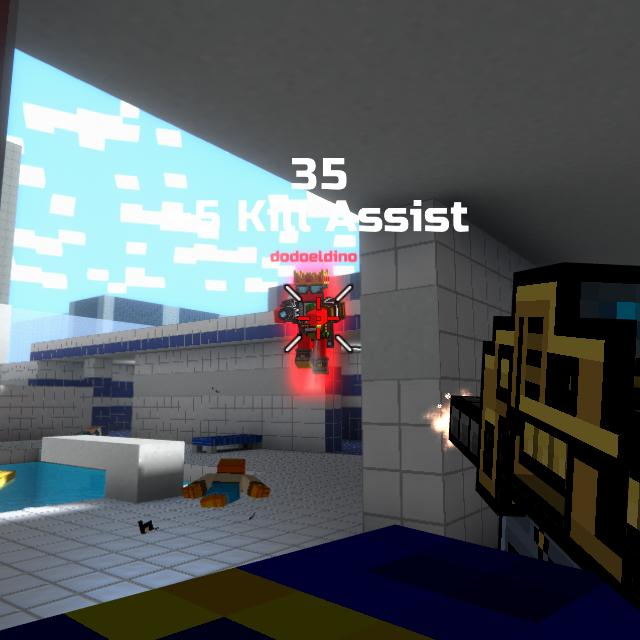Enemy: (274, 274, 346, 375)
